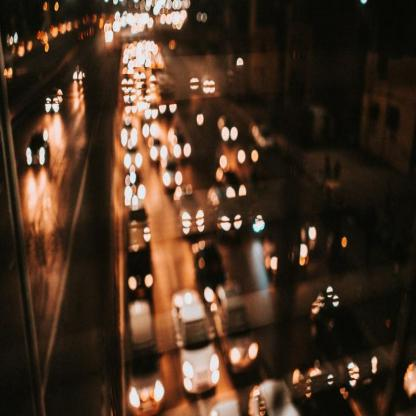other: (113, 41, 194, 201), (212, 117, 260, 198), (177, 206, 273, 244), (176, 347, 224, 397), (19, 166, 60, 224), (105, 6, 185, 34), (8, 27, 54, 62), (58, 6, 100, 41)
